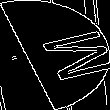M_W: (9, 25, 101, 85)
